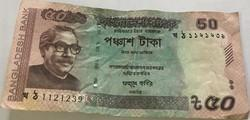50 taka: (20, 1, 241, 116)
